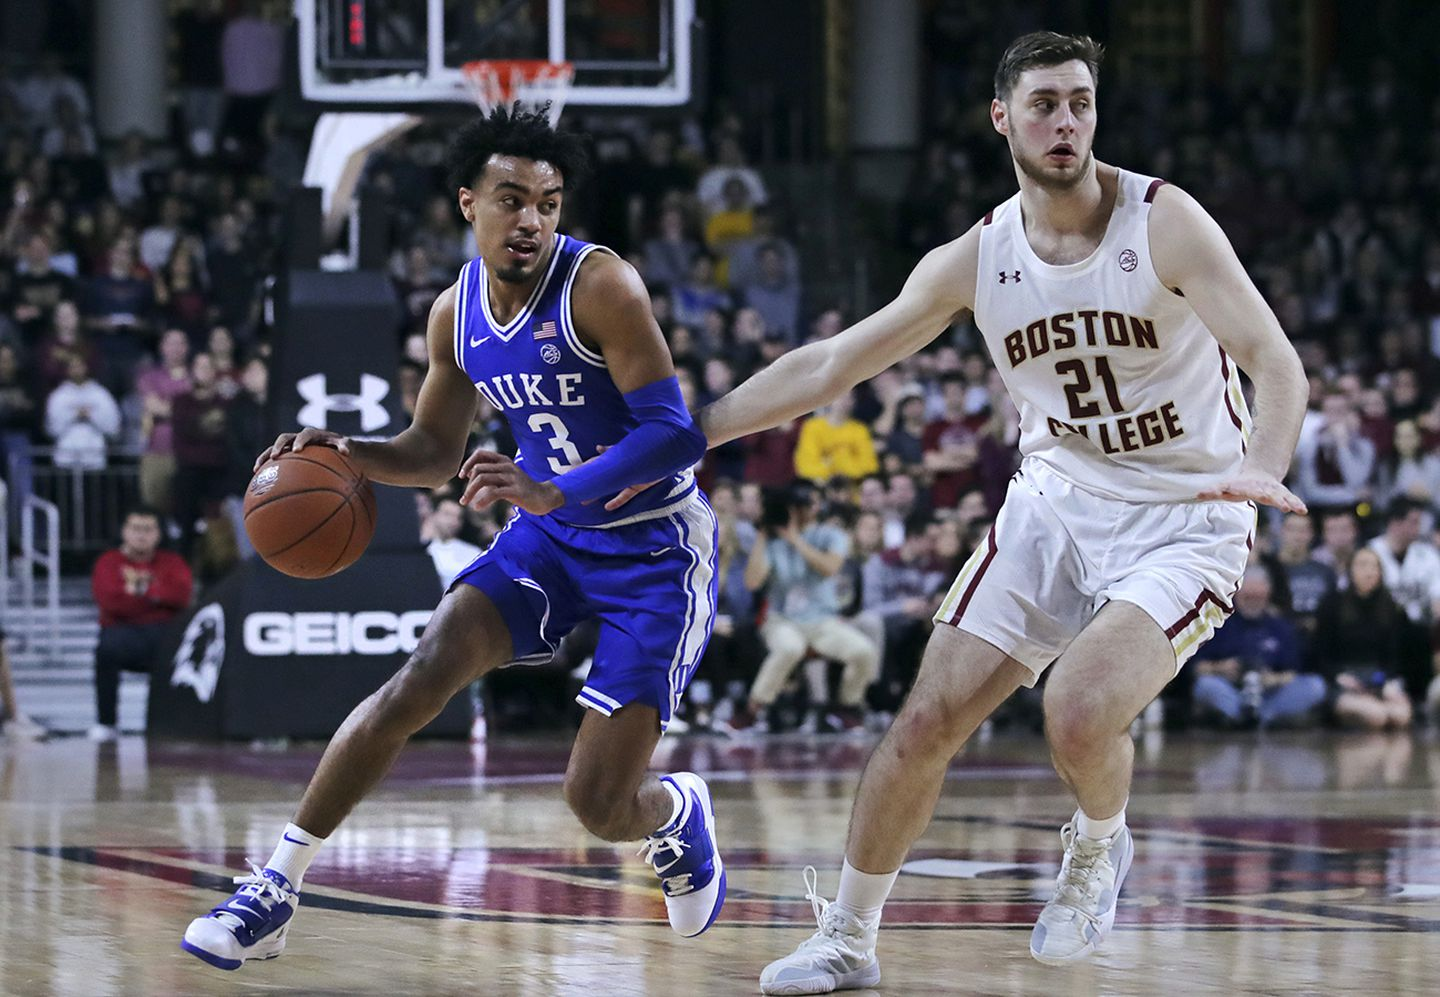ball: (207, 422, 387, 592)
defense: (725, 12, 1313, 997)
